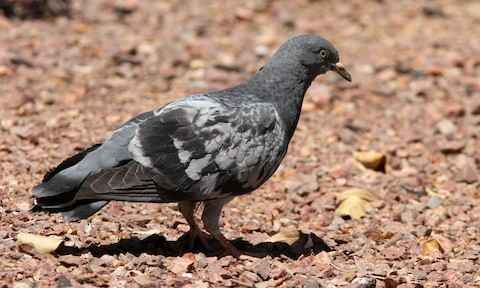pigeon: (27, 32, 355, 255)
